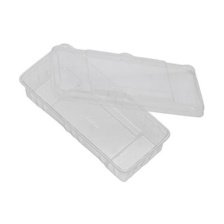plastic_box: (13, 34, 212, 188)
